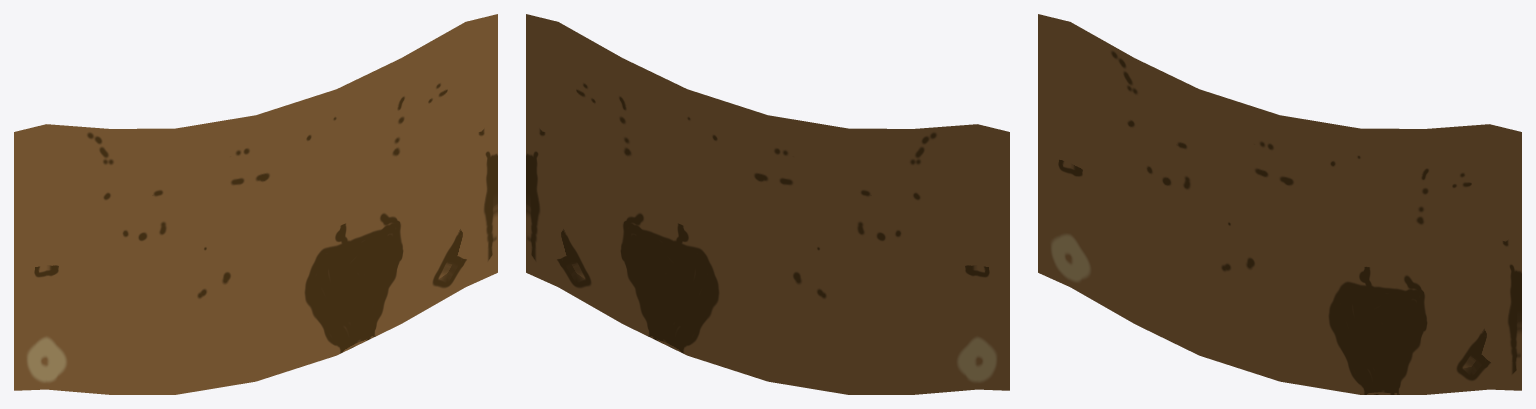
File: MeatWellPoster.fbx
The picture shows the model from 3 angles, left to right: view 1: azimuth 30°, elevation 25°; view 2: azimuth 150°, elevation 25°; view 3: azimuth 330°, elevation 25°; orthographic projection.
Visible parts, largest first — view 1: pPlane5; view 2: pPlane5; view 3: pPlane5.
Part boxes in pixels (x1,y1,x2,y2): pPlane5: [14, 14, 497, 394]; pPlane5: [526, 14, 1009, 394]; pPlane5: [1038, 14, 1521, 394].
Size of the model in its own units: 1.96 by 1.19 by 2.98e-07.
1 material, 1 textured.
